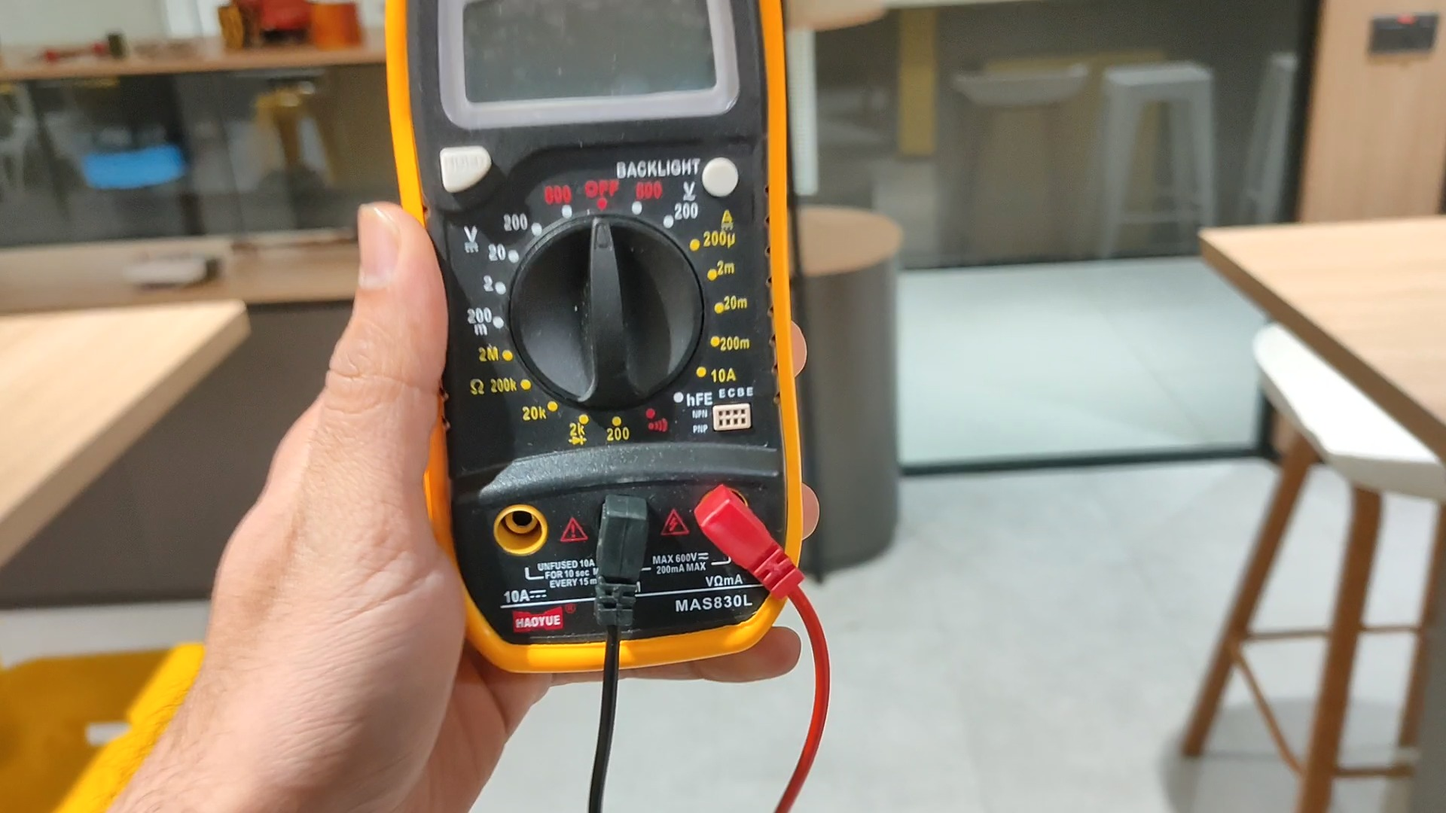multimeter: (383, 0, 422, 219)
